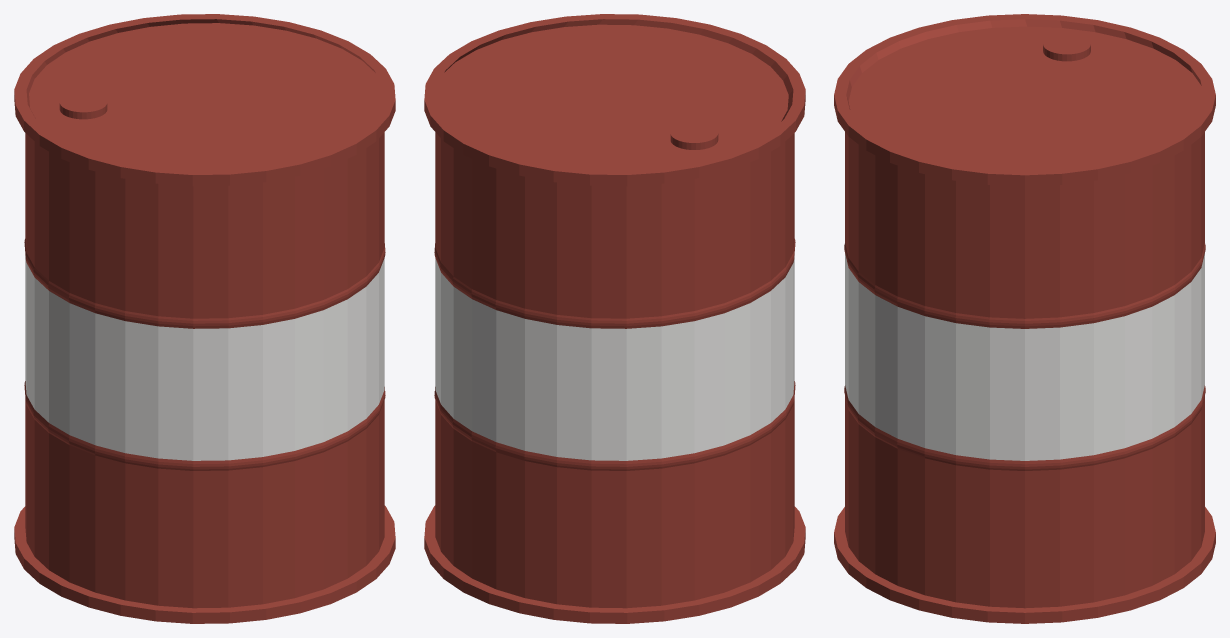
The model's file is FuelBarrel.fbx.
3 renders of one model, left to right at view 1: azimuth 30°, elevation 25°; view 2: azimuth 150°, elevation 25°; view 3: azimuth 270°, elevation 25°, orthographic.
Visible parts, largest first — view 1: FuelBarrel; view 2: FuelBarrel; view 3: FuelBarrel.
Part boxes in pixels (box(x1,y1,x2,y2)): FuelBarrel: box(14, 14, 395, 623); FuelBarrel: box(424, 14, 805, 623); FuelBarrel: box(834, 14, 1215, 623).
Size of the model in its own units: 97.04 by 126 by 97.04.
